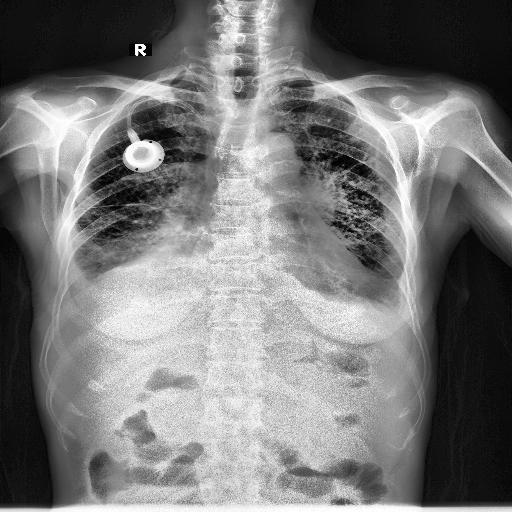0- Aortic enlargement: (256, 132, 297, 170)
10- Pleural effusion: (52, 243, 166, 315), (362, 249, 413, 320), (64, 242, 112, 298), (60, 256, 124, 293), (368, 269, 412, 320), (375, 274, 415, 314)
11- Pleural thickening: (375, 274, 415, 314)
3- Cardiomegaly: (142, 219, 368, 299), (192, 222, 372, 292)
5- ILD: (74, 110, 203, 264), (294, 112, 406, 280), (67, 174, 190, 271), (320, 160, 408, 254)
6- Infiltration: (67, 174, 190, 271), (320, 160, 408, 254)
9- Other lesion: (76, 78, 404, 316)
